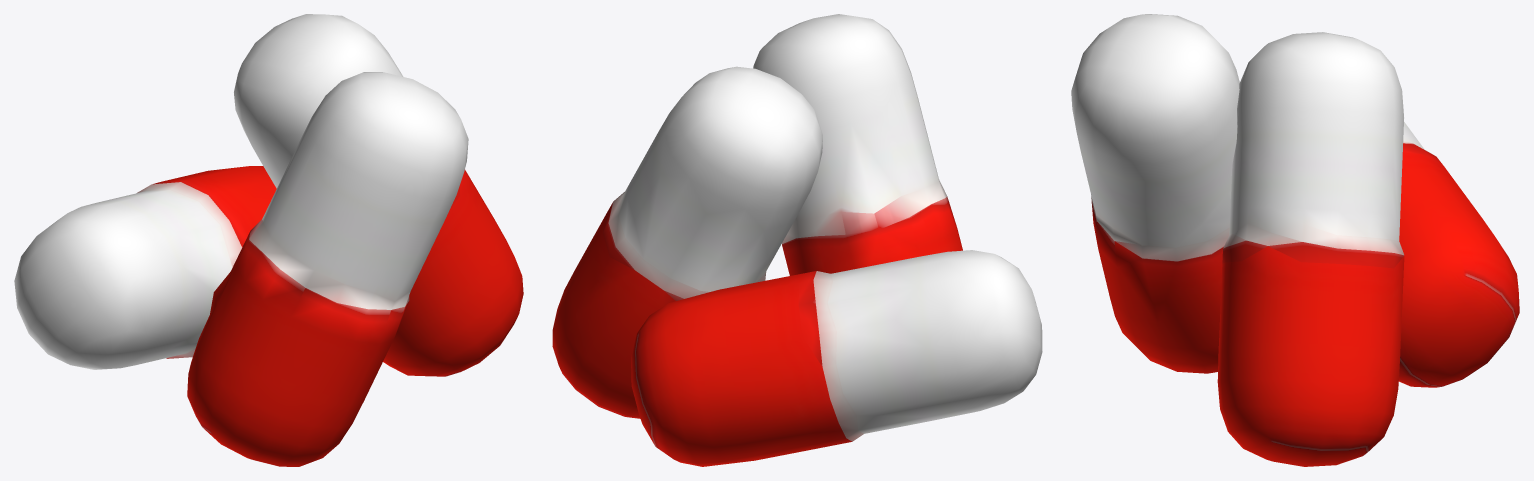
The model's file is tablets.glb.
3 renders of one model, left to right at view 1: azimuth 30°, elevation 25°; view 2: azimuth 150°, elevation 25°; view 3: azimuth 270°, elevation 25°, orthographic. The views are drawn at different scales.
Parts seen in each view (by area): view 1: Tablets; view 2: Tablets; view 3: Tablets.
Part boxes in pixels (<box>): Tablets: <box>14,14,523,466</box>; Tablets: <box>552,14,1042,466</box>; Tablets: <box>1071,14,1519,466</box>.
Bounding box in the file's own units: 6.16 × 4.54 × 4.86.
1 material, 1 textured.
